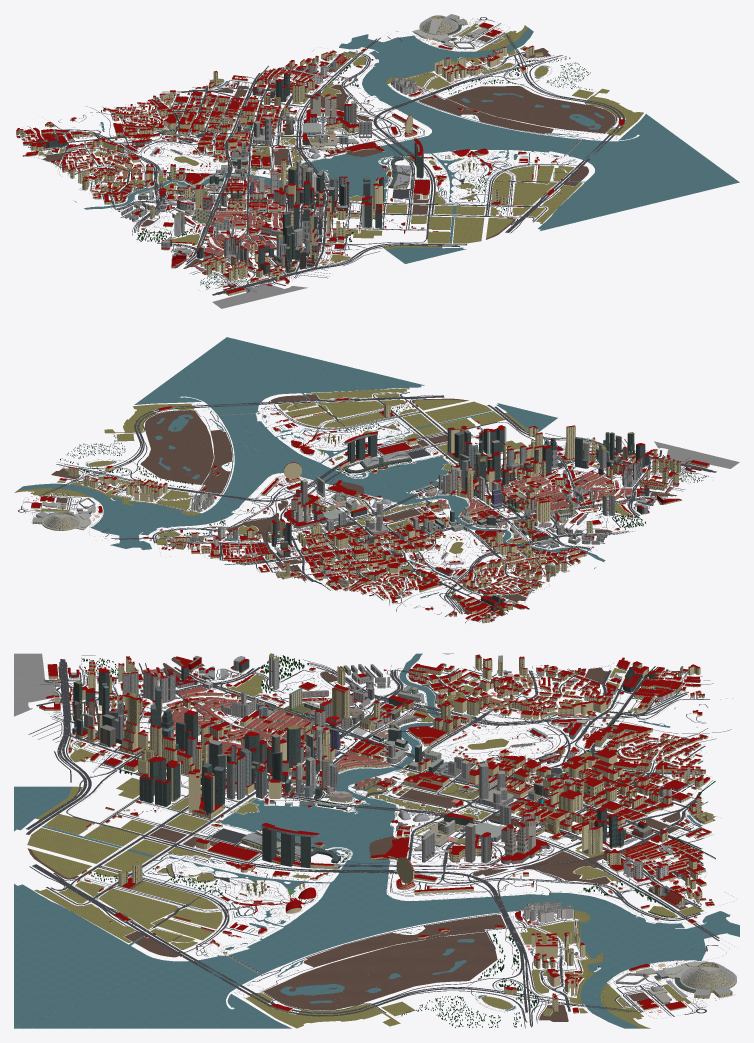
Rendered from city.glb.
3 views of the same model, one above another, from view 1: azimuth 30°, elevation 25°; view 2: azimuth 150°, elevation 25°; view 3: azimuth 270°, elevation 25° (orthographic). The views are drawn at different scales.
Visible parts, largest first — view 1: cell_1_1, cell_-1_-1, cell_-2_1, cell_-2_0, cell_0_-1, cell_-1_0, cell_0_0, cell_1_0, cell_1_-1, cell_1_-2, cell_-1_1, cell_-2_-1 (+12 smaller); view 2: cell_-1_0, cell_1_1, cell_-2_0, cell_-1_-1, cell_1_-2, cell_-2_1, cell_0_0, cell_1_0, cell_0_-1, cell_-1_-2, cell_-2_-1, cell_1_-1 (+12 smaller); view 3: cell_-1_0, cell_1_1, cell_-1_-1, cell_0_0, cell_0_-1, cell_1_-2, cell_1_0, cell_-1_1, cell_1_-1, cell_0_-2, cell_-2_-1, cell_-2_1 (+12 smaller).
Boxes of the visible parts, x1=… form: cell_1_1: x1=522, y1=158, x2=739, y2=230; cell_-1_-1: x1=192, y1=105, x2=358, y2=180; cell_-2_1: x1=207, y1=204, x2=359, y2=297; cell_-2_0: x1=148, y1=177, x2=302, y2=252; cell_0_-1: x1=298, y1=79, x2=471, y2=157; cell_-1_0: x1=252, y1=152, x2=427, y2=226; cell_0_0: x1=329, y1=121, x2=553, y2=199; cell_1_0: x1=389, y1=105, x2=634, y2=175; cell_1_-1: x1=403, y1=56, x2=603, y2=124; cell_1_-2: x1=348, y1=14, x2=513, y2=83; cell_-1_1: x1=317, y1=184, x2=480, y2=263; cell_-2_-1: x1=85, y1=137, x2=251, y2=205; cell_-1_0: x1=343, y1=427, x2=526, y2=516; cell_1_1: x1=227, y1=337, x2=424, y2=418; cell_-2_0: x1=469, y1=451, x2=631, y2=537; cell_-1_-1: x1=303, y1=486, x2=463, y2=557; cell_1_-2: x1=32, y1=476, x2=195, y2=548; cell_-2_1: x1=525, y1=425, x2=711, y2=495; cell_0_0: x1=232, y1=419, x2=421, y2=491; cell_1_0: x1=155, y1=397, x2=347, y2=476; cell_0_-1: x1=199, y1=462, x2=363, y2=532; cell_-1_-2: x1=256, y1=522, x2=405, y2=591; cell_-2_-1: x1=409, y1=506, x2=566, y2=582; cell_1_-1: x1=98, y1=422, x2=233, y2=509; cell_-1_0: x1=192, y1=725, x2=438, y2=858; cell_1_1: x1=14, y1=884, x2=201, y2=1028; cell_-1_-1: x1=354, y1=745, x2=561, y2=842; cell_0_0: x1=191, y1=815, x2=399, y2=963; cell_0_-1: x1=353, y1=814, x2=580, y2=928; cell_1_-2: x1=547, y1=908, x2=739, y2=1003; cell_1_0: x1=187, y1=858, x2=411, y2=1004; cell_-1_1: x1=14, y1=725, x2=208, y2=848; cell_1_-1: x1=336, y1=908, x2=572, y2=1009; cell_0_-2: x1=515, y1=810, x2=733, y2=928; cell_-2_-1: x1=372, y1=680, x2=559, y2=765; cell_-2_1: x1=14, y1=666, x2=200, y2=767.
Bounding box in the file's own units: 4898 × 305 × 4008.
Materials: 38 (37 with a texture image).
